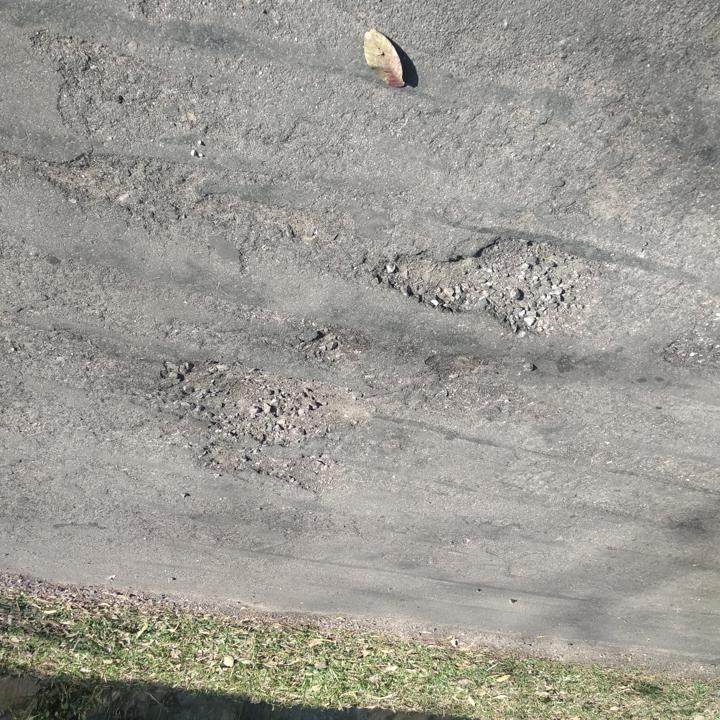pothole: (369, 237, 599, 343), (137, 364, 366, 448), (193, 443, 349, 497), (299, 323, 350, 364)
